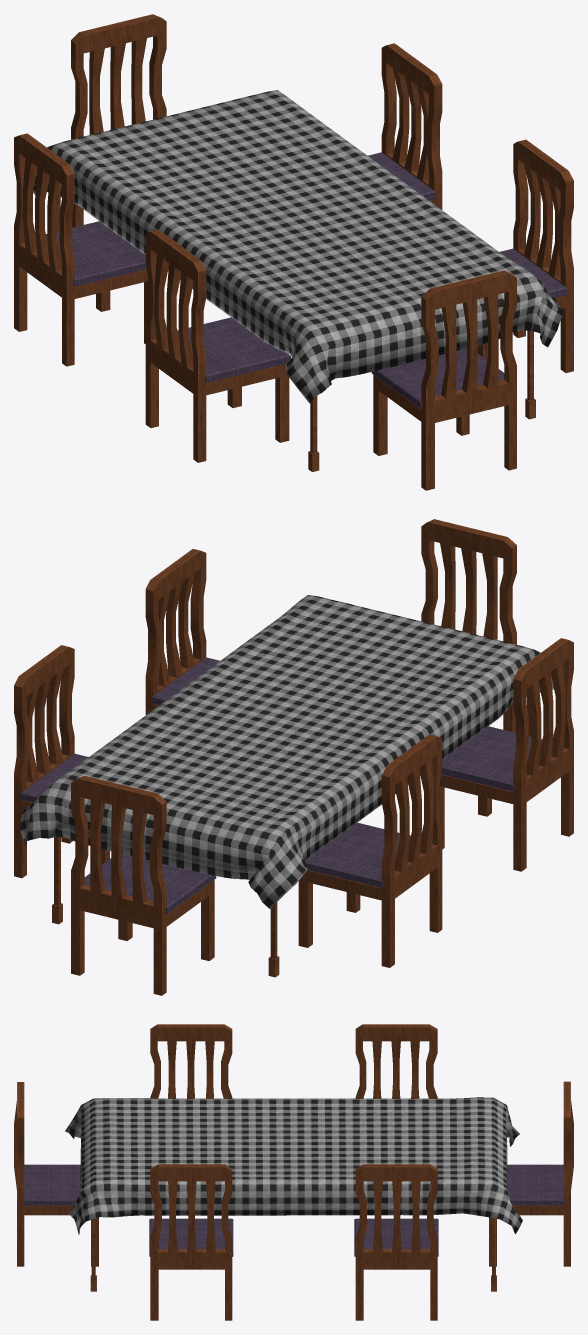
Rendered from dining_table_set.glb.
The picture shows the model from 3 angles, top to bottom: view 1: azimuth 30°, elevation 25°; view 2: azimuth 150°, elevation 25°; view 3: azimuth 270°, elevation 25°; orthographic projection. The views are drawn at different scales.
Visible parts, largest first — view 1: Cloth, Chair_a, Chair_d, Chair_e, Chair_c, Chair_f, Chair_b, Table; view 2: Cloth, Chair_f, Chair_e, Chair_d, Chair_b, Chair_a, Chair_c, Table; view 3: Cloth, Chair_b, Chair_c, Chair_a, Chair_f, Chair_d, Chair_e, Table.
Part boxes in pixels (box(x1,y1,x2,y2)): Cloth: box(33, 90, 563, 403); Chair_a: box(371, 270, 516, 490); Chair_d: box(145, 229, 290, 462); Chair_e: box(14, 133, 147, 366); Chair_c: box(477, 139, 573, 372); Chair_f: box(71, 14, 166, 227); Chair_b: box(368, 43, 442, 209); Table: box(57, 197, 535, 471); Cloth: box(20, 595, 553, 908); Chair_f: box(71, 776, 216, 995); Chair_e: box(298, 734, 442, 967); Chair_d: box(440, 638, 573, 871); Chair_b: box(14, 645, 109, 878); Chair_a: box(421, 519, 516, 732); Chair_c: box(145, 549, 219, 714); Table: box(52, 696, 531, 977); Cloth: box(65, 1097, 522, 1234); Chair_b: box(354, 1164, 438, 1320); Chair_c: box(149, 1164, 233, 1320); Chair_a: box(14, 1082, 98, 1266); Chair_f: box(489, 1081, 573, 1266); Chair_d: box(150, 1024, 232, 1098); Chair_e: box(355, 1024, 437, 1098); Table: box(90, 1218, 496, 1291).
Bounding box in the file's own units: 672 × 330 × 1092.
3 materials, 3 textured.
